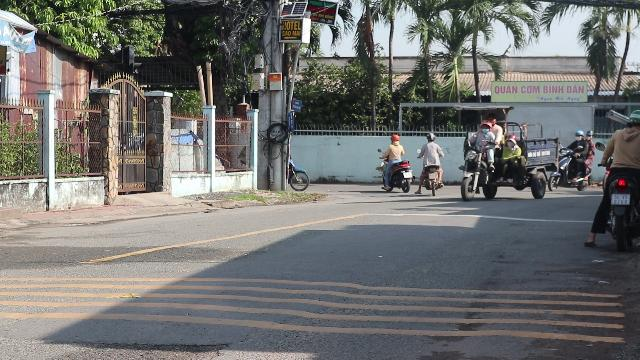helmet: (624, 109, 640, 128)
licenseplate: (611, 193, 629, 204)
motorcyclist: (590, 110, 640, 250)
